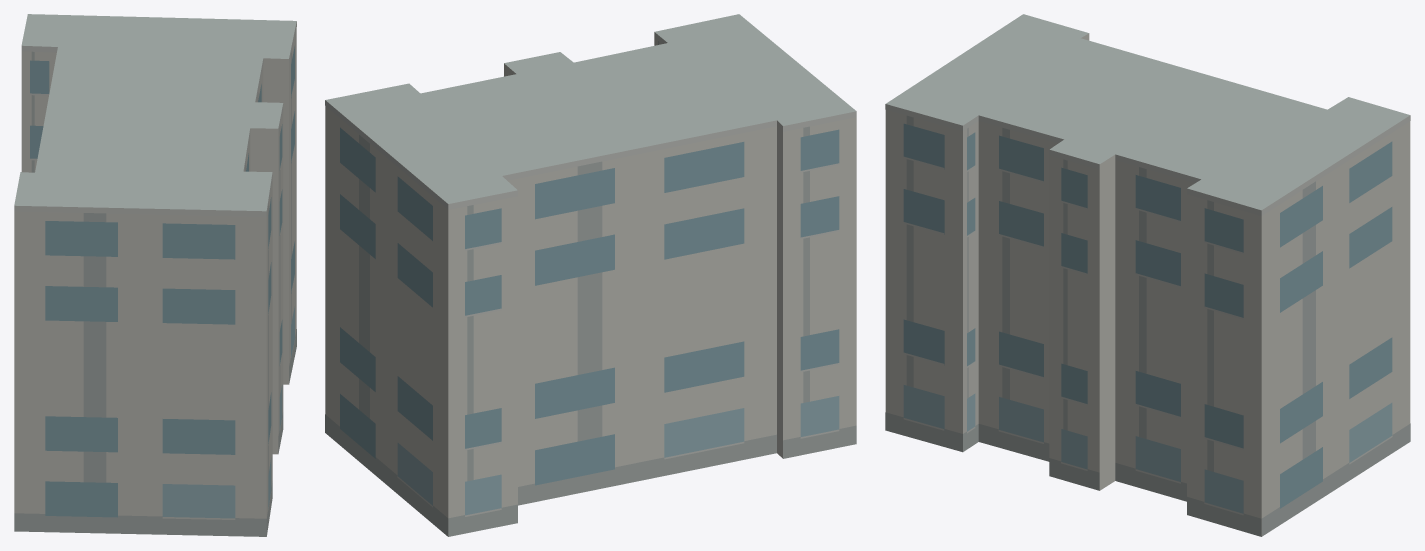
Rendered from survey-upis-32801033.glb.
The picture shows the model from 3 angles, left to right: view 1: azimuth 30°, elevation 25°; view 2: azimuth 150°, elevation 25°; view 3: azimuth 270°, elevation 25°; orthographic projection. The views are drawn at different scales.
Visible parts, largest first — view 1: survey-upis-32801033.tmp; view 2: survey-upis-32801033.tmp; view 3: survey-upis-32801033.tmp.
Part boxes in pixels (x1,y1,x2,y2): survey-upis-32801033.tmp: (14,14,296,536); survey-upis-32801033.tmp: (325,14,856,536); survey-upis-32801033.tmp: (885,14,1410,536).
Bounding box in the file's own units: 18.06 × 14 × 20.41.
